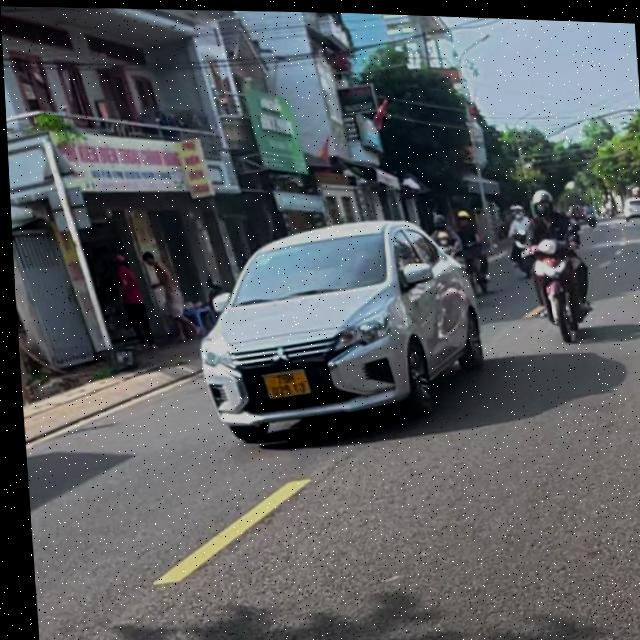car: (187, 208, 496, 456)
motorcycle: (520, 237, 604, 350)
plate: (258, 361, 319, 407)
